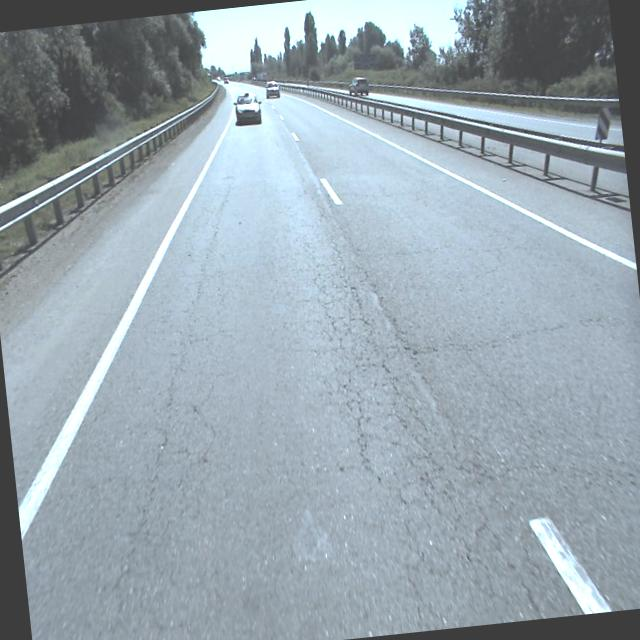road: (1, 82, 640, 640)
